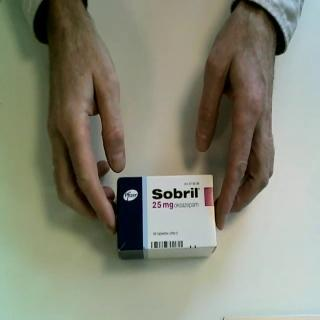sobril25mg: (116, 173, 219, 263)
